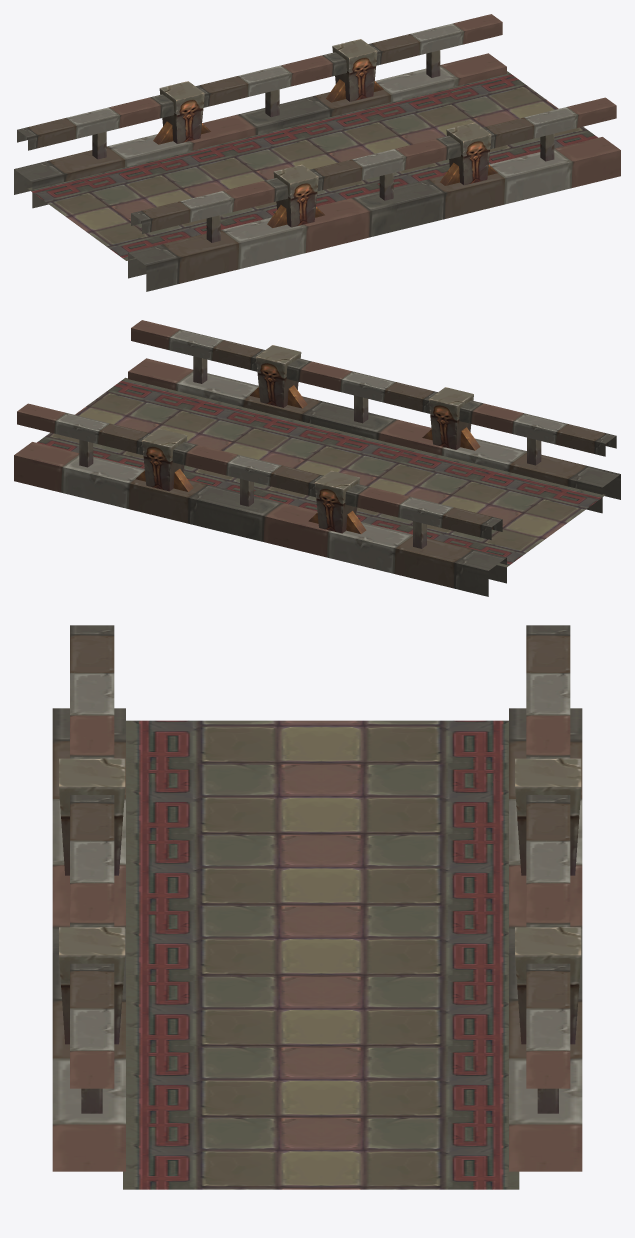
Rendered from langan_01.FBX.
The picture shows the model from 3 angles, top to bottom: view 1: azimuth 30°, elevation 25°; view 2: azimuth 150°, elevation 25°; view 3: azimuth 270°, elevation 25°; orthographic projection. The views are drawn at different scales.
Parts seen in each view (by area): view 1: Box453, Plane75, Box449; view 2: Box453, Plane75, Box449; view 3: Plane75, Box453, Box449.
Part boxes in pixels (x1=…): Box453: x1=14, y1=14, x2=620, y2=291; Plane75: x1=27, y1=71, x2=597, y2=260; Box449: x1=92, y1=39, x2=554, y2=242; Box453: x1=14, y1=320, x2=620, y2=596; Plane75: x1=37, y1=377, x2=605, y2=567; Box449: x1=79, y1=345, x2=541, y2=548; Plane75: x1=123, y1=720, x2=519, y2=1189; Box453: x1=52, y1=625, x2=582, y2=1171; Box449: x1=59, y1=758, x2=581, y2=1113.
Size of the model in its own units: 689 by 98.2 by 329.
